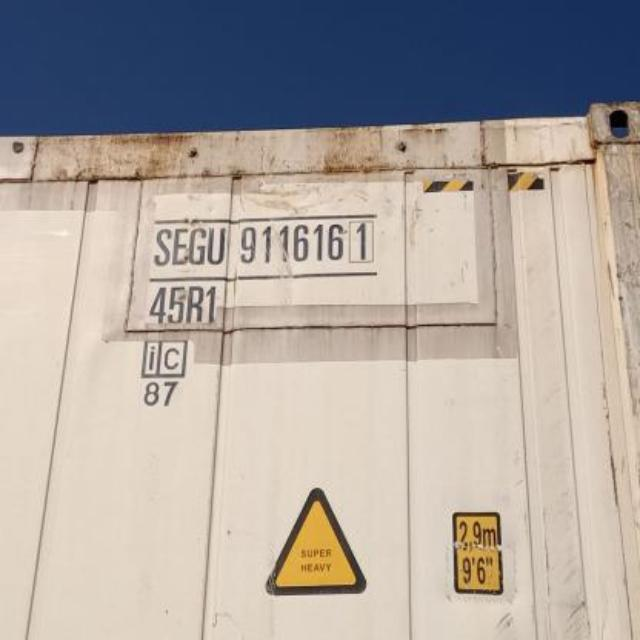1: (313, 220, 325, 264), (261, 222, 273, 264), (356, 221, 368, 259), (280, 224, 290, 266)
6: (294, 222, 310, 266), (328, 222, 342, 262)
9: (240, 227, 256, 263)
E: (174, 224, 186, 266)
G: (190, 223, 206, 269)
S: (156, 223, 170, 269)
U: (207, 225, 225, 268)
